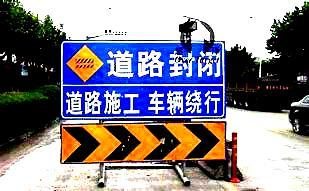sign: (60, 42, 226, 162)
